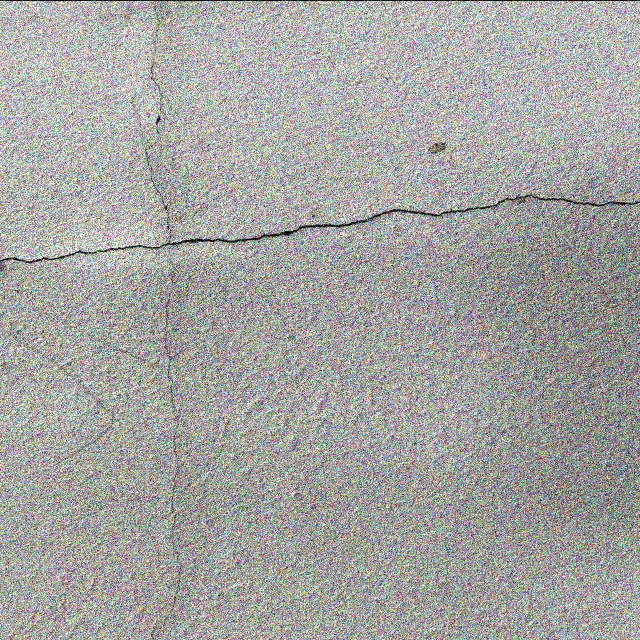SurfaceCrack: (177, 164, 638, 279), (119, 1, 201, 263)
